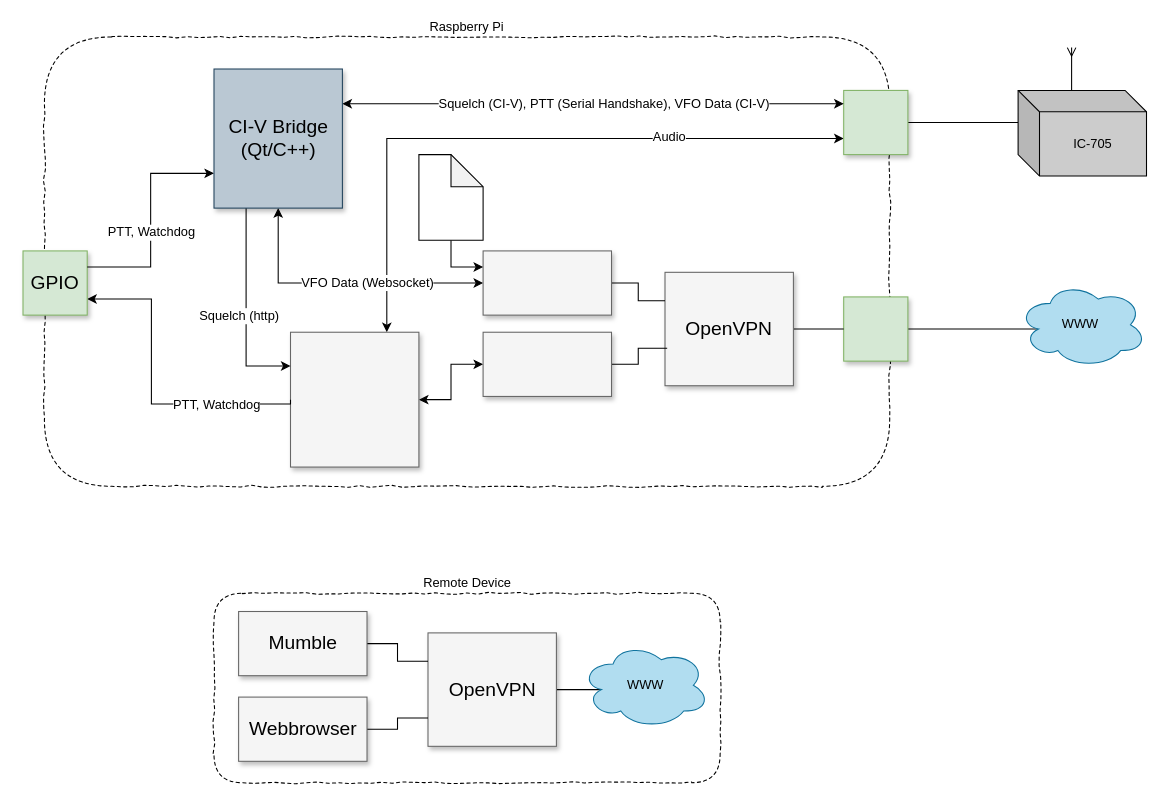
The diagram is 1165 pixels wide and 801 high, and some of its shapes have lost their labels. The centre of each missing label's shape, as x and y in pixels:
"Mumble Server" belongs at point 548,365.
"talKKonnect" belongs at point 355,401.
"USB" belongs at point 876,123.
"Web UI" belongs at point 450,197.
"Webserver (nginx)" belongs at point 548,284.
"WiFi" belongs at point 876,330.
